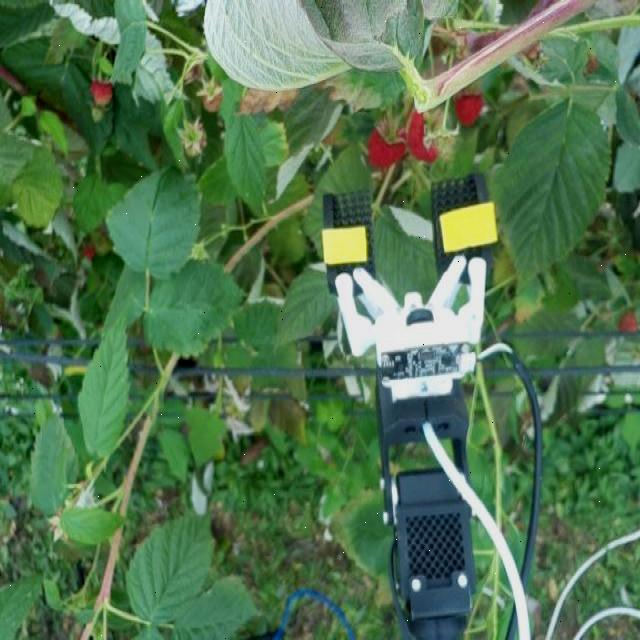Riped berries: (408, 106, 444, 166), (367, 115, 403, 169), (453, 85, 485, 122), (86, 74, 120, 108)
